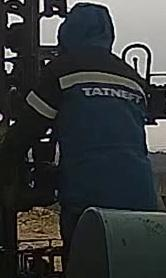vest: (43, 51, 152, 209)
